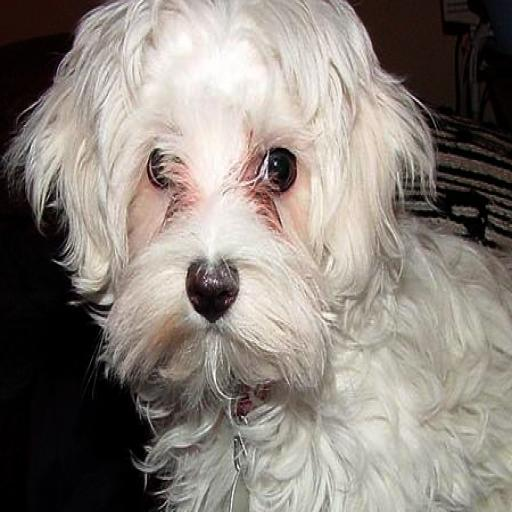dog_face: (15, 0, 392, 390)
